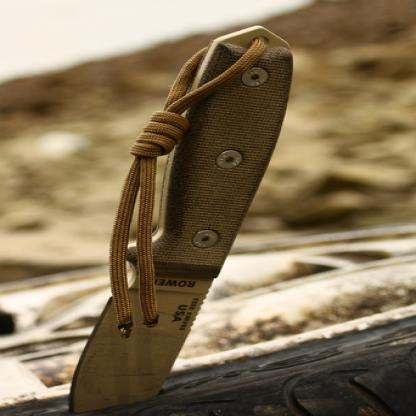knife: (68, 9, 329, 415)
